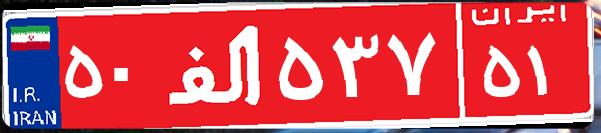0: (110, 28, 158, 105)
1: (525, 38, 570, 115)
3: (330, 28, 385, 110)
5: (273, 28, 330, 110), (57, 26, 110, 107), (475, 38, 525, 113)
7: (385, 28, 445, 110)
الف: (158, 15, 273, 115)
